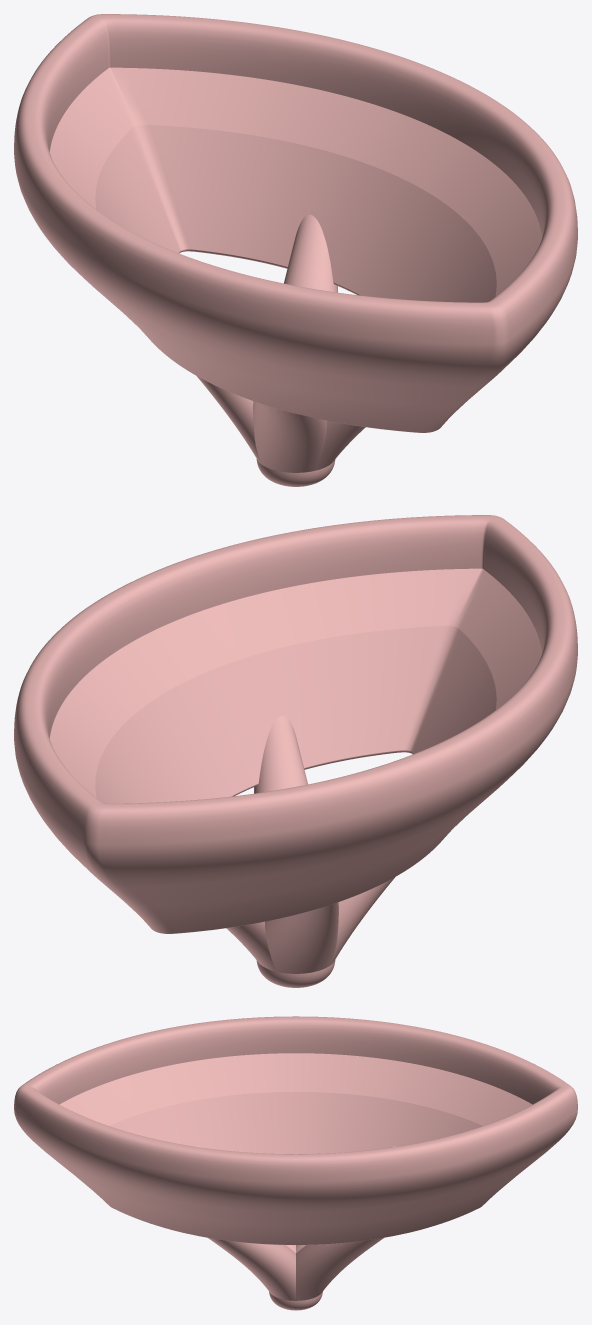
File: Marquise-Bezel.glb
The picture shows the model from 3 angles, top to bottom: view 1: azimuth 30°, elevation 25°; view 2: azimuth 150°, elevation 25°; view 3: azimuth 270°, elevation 25°; orthographic projection. The views are drawn at different scales.
Visible parts, largest first — view 1: Marquise; view 2: Marquise; view 3: Marquise.
Boxes of the visible parts, x1,y1,x2,y2 form: Marquise: [14, 14, 577, 486]; Marquise: [14, 515, 577, 987]; Marquise: [14, 1016, 577, 1310].
Bounding box in the file's own units: 5.8 × 4.01 × 9.36.
